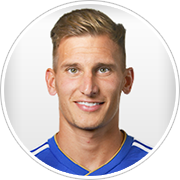smile: (73, 97, 108, 113)
